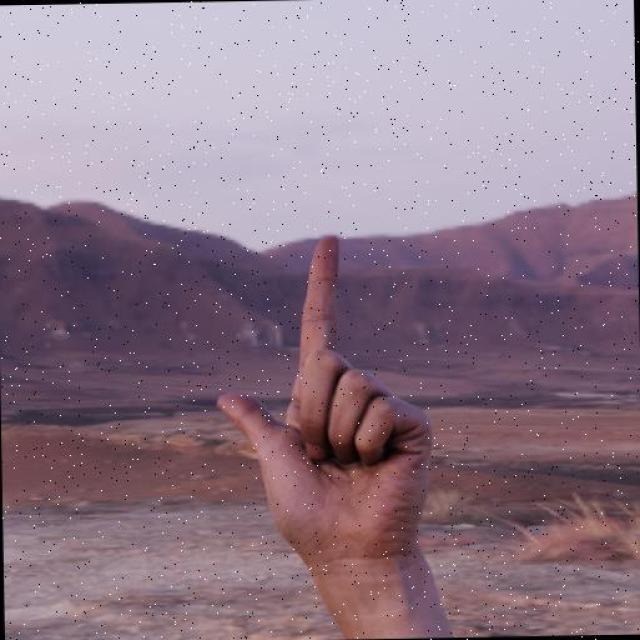L: (179, 218, 473, 584)
